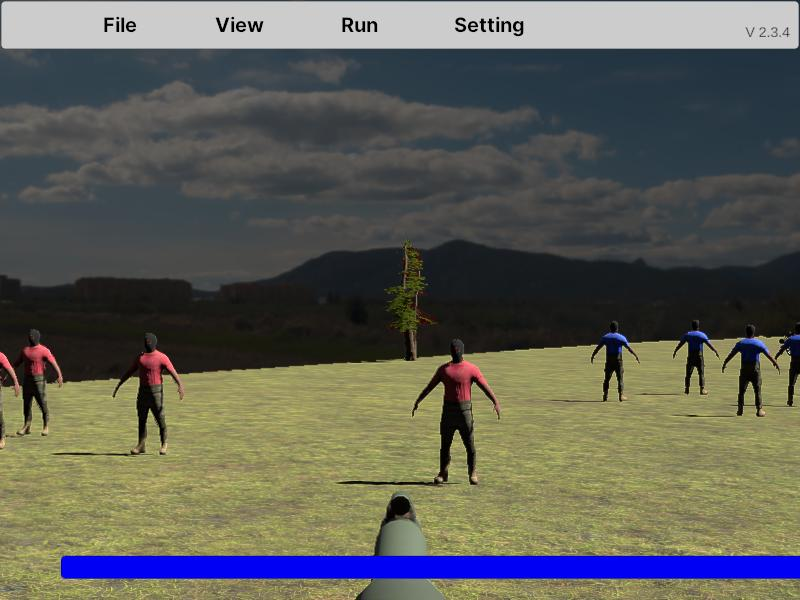Human: (412, 337, 500, 487), (113, 331, 183, 456), (8, 327, 62, 437), (8, 328, 62, 436), (721, 324, 779, 418), (590, 321, 639, 402), (673, 319, 720, 397), (0, 332, 19, 449)
